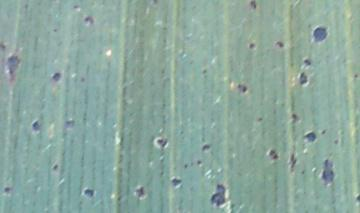tarspot: (3, 50, 21, 85), (319, 157, 336, 185), (208, 182, 227, 207), (312, 25, 328, 43), (81, 186, 96, 200), (298, 69, 309, 88), (301, 131, 317, 144), (154, 137, 170, 149), (133, 185, 146, 199), (267, 148, 279, 163), (288, 151, 297, 171), (170, 176, 182, 189), (30, 118, 41, 131), (82, 14, 95, 25), (63, 119, 77, 129), (289, 111, 299, 124), (301, 56, 312, 67), (51, 70, 60, 83), (200, 144, 211, 152), (249, 1, 257, 11), (274, 40, 284, 48), (247, 41, 255, 50), (51, 163, 59, 172), (240, 85, 248, 94), (2, 186, 12, 193), (1, 41, 7, 52), (72, 3, 81, 10), (332, 137, 339, 146), (319, 128, 326, 137), (256, 116, 264, 123), (79, 75, 86, 83), (236, 82, 242, 90), (355, 193, 360, 202), (196, 159, 202, 166), (51, 27, 58, 33), (353, 72, 358, 79), (151, 1, 158, 5)
